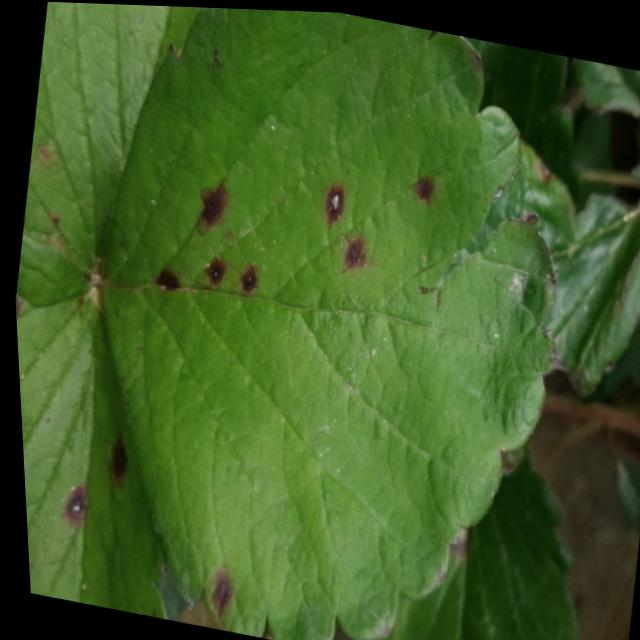Leaf Spot: (96, 6, 560, 640), (12, 234, 161, 619), (19, 1, 199, 274), (359, 440, 573, 640), (462, 32, 582, 205)
